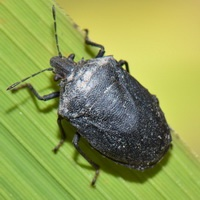insect: (7, 5, 170, 185), (15, 70, 61, 96)
